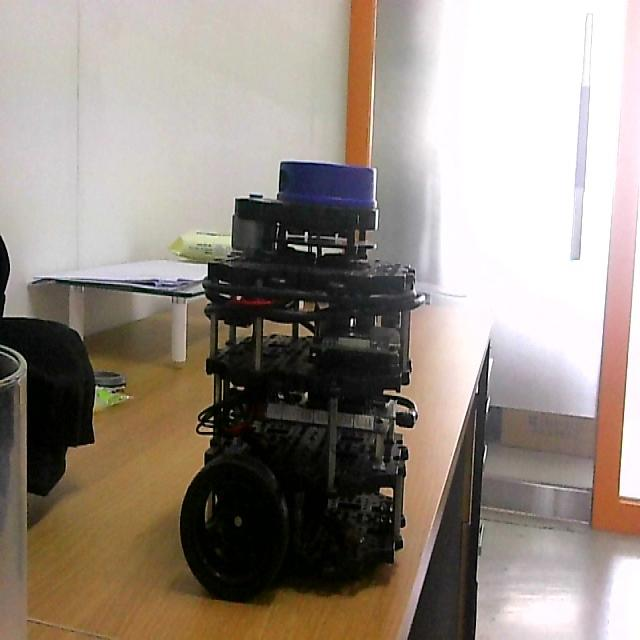turtle: (178, 159, 432, 608)
